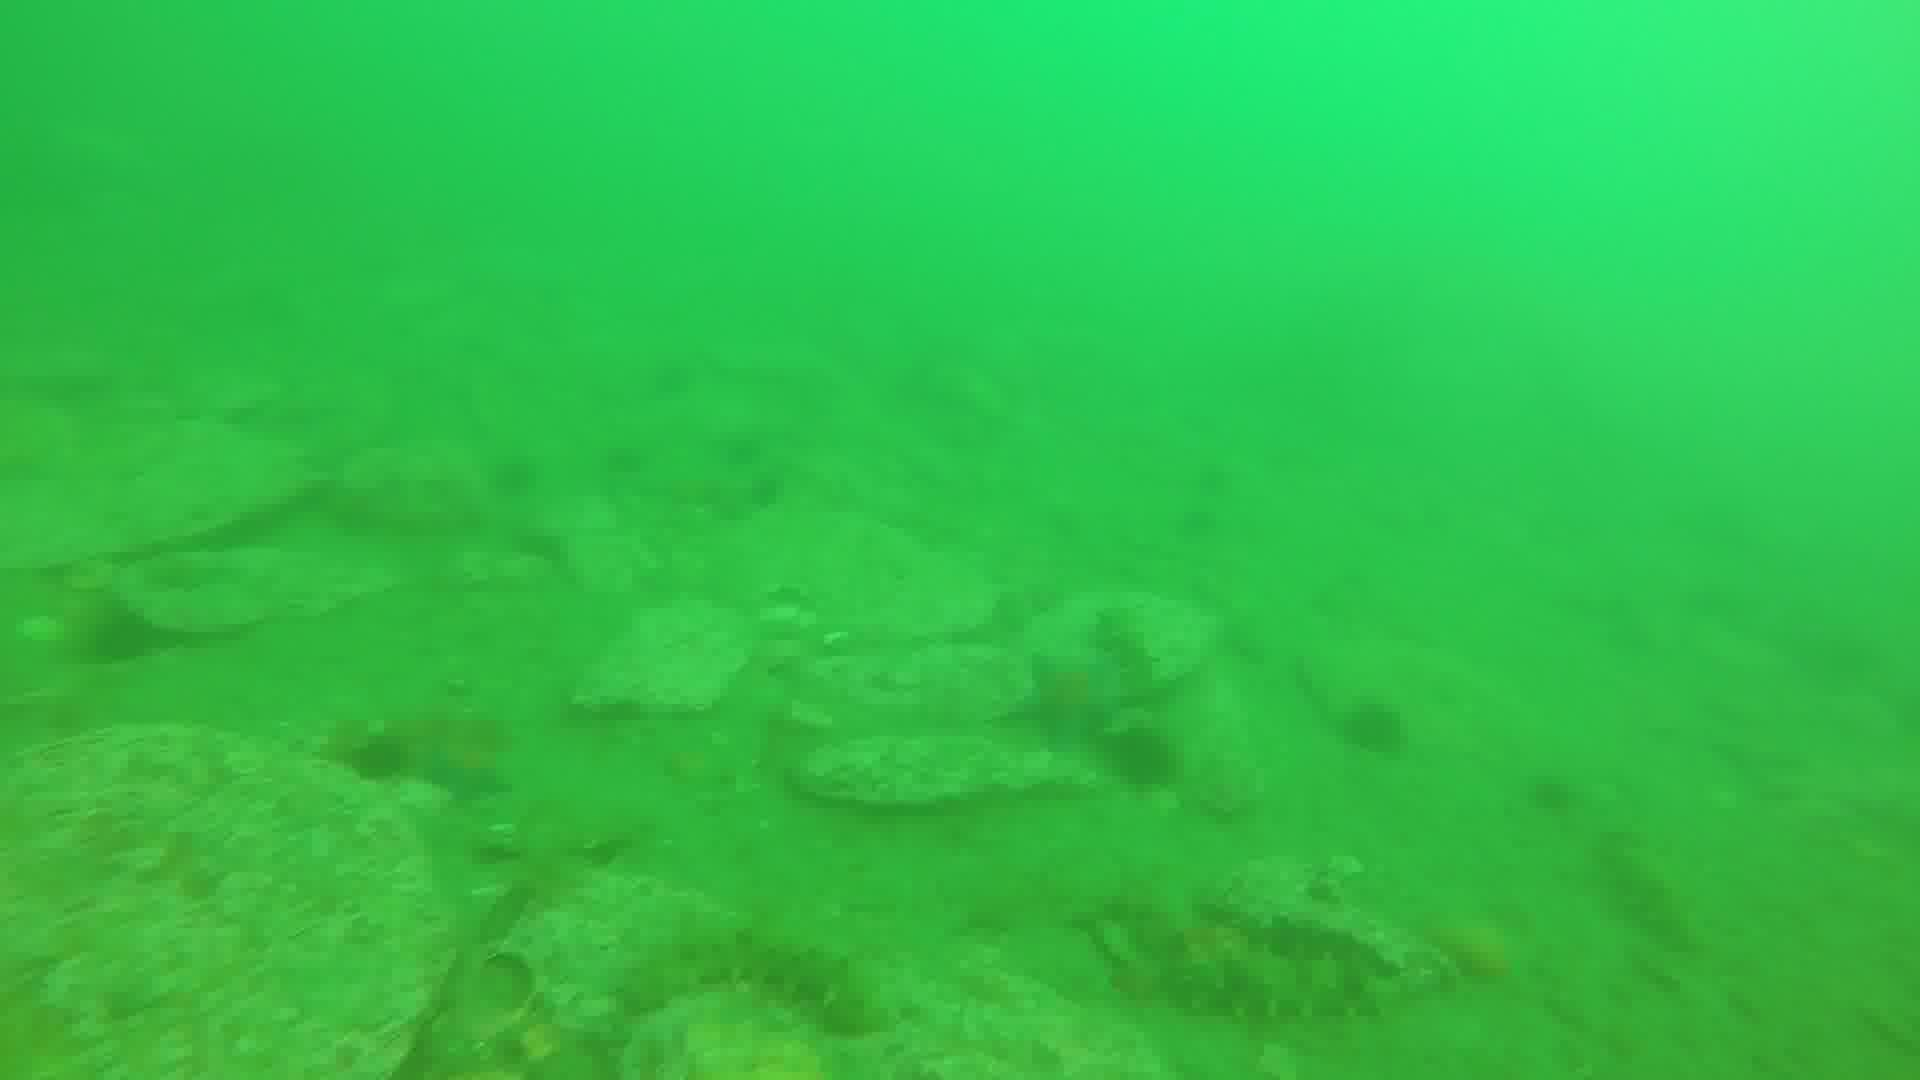echinus: (1112, 723, 1180, 785), (349, 732, 419, 781), (98, 605, 164, 647), (1348, 702, 1407, 746), (1534, 769, 1582, 812)
holothurian: (669, 932, 878, 1033), (1596, 822, 1716, 957), (1153, 948, 1387, 1017)
starfish: (1006, 649, 1143, 749)
